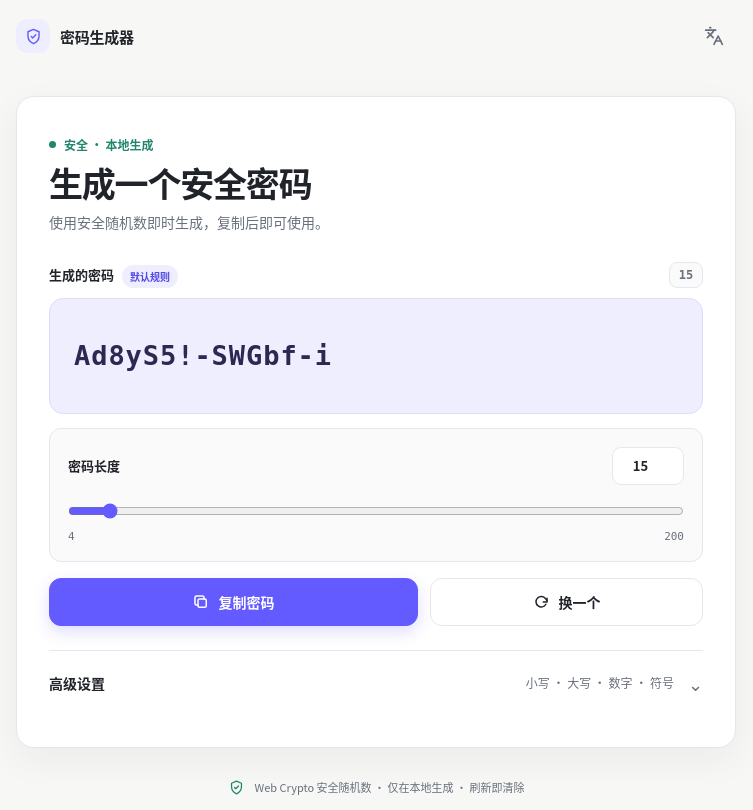
Test case: App › validates character selections and restores defaults immediately
This screenshot has width=753, height=810.
Click the button "高级设置 小写 · 大写 · 数字 · 符号 ⌄" at [77, 683], box [49,651,703,715]
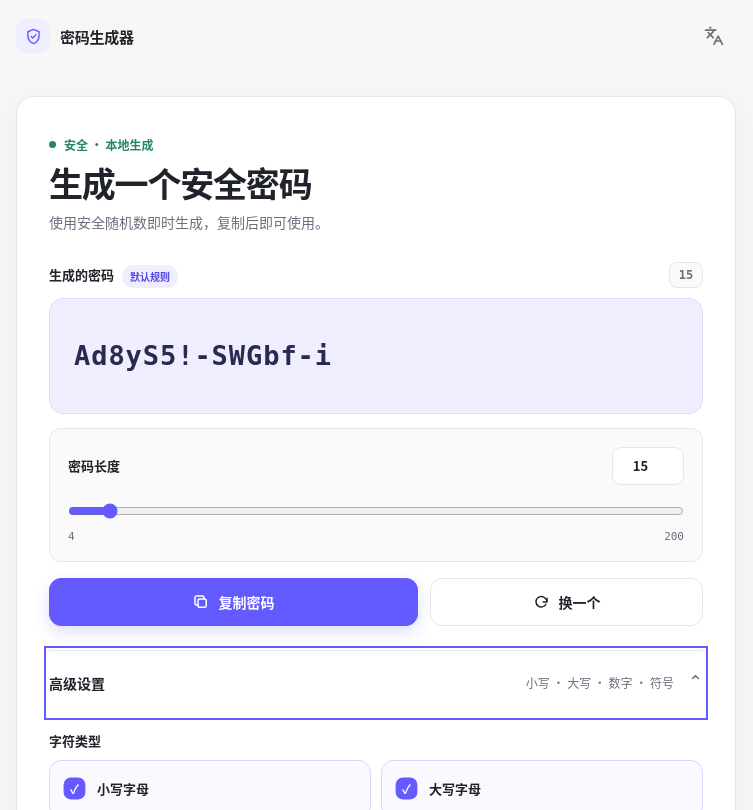
Click the text "小写字母" at [123, 789], box [97,779,149,798]
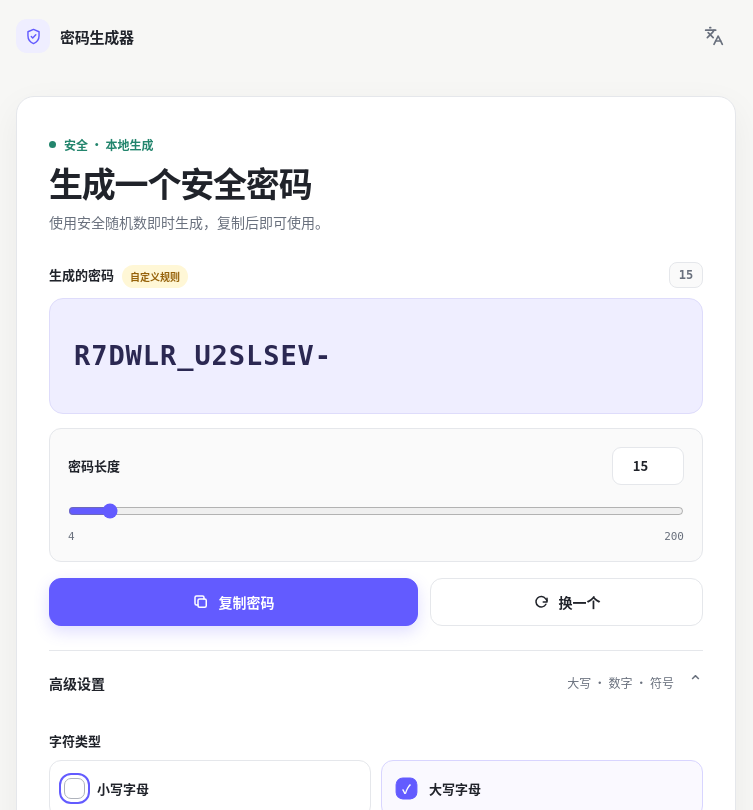
Click the text "大写字母" at [455, 789], box [429,779,481,798]
(page scrolled)
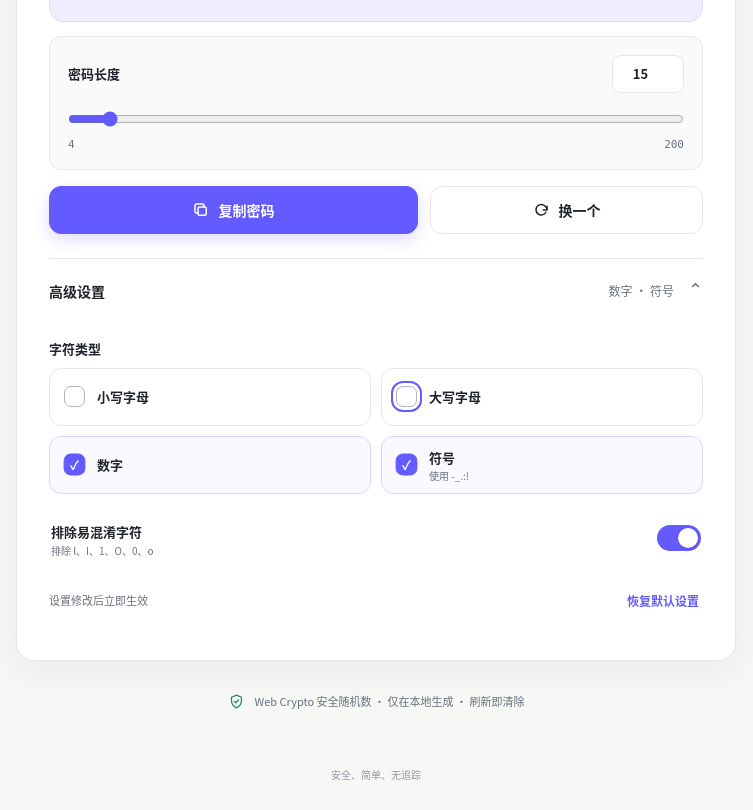
Click the text "数字" at [110, 465], box [97,455,123,474]
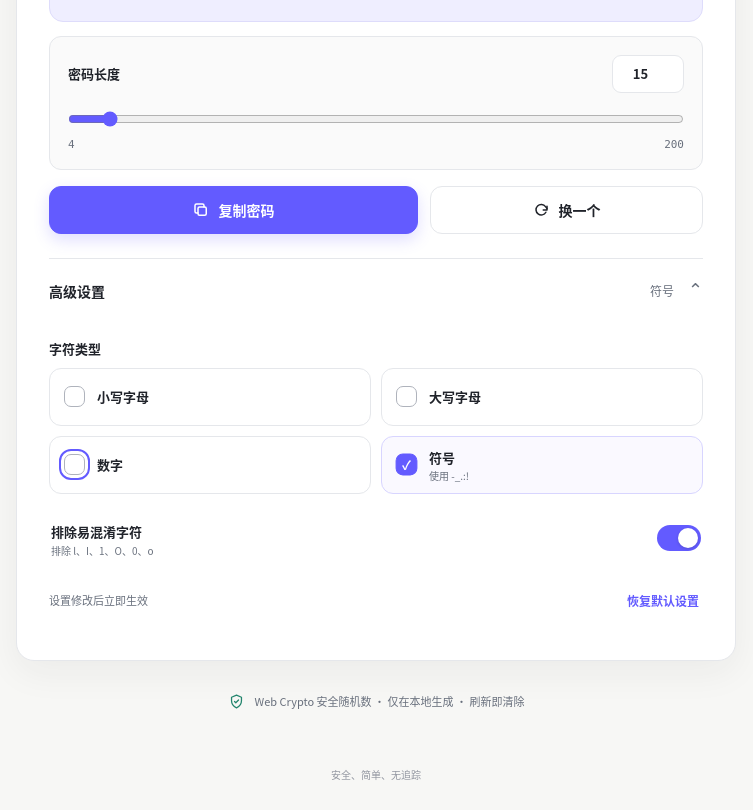
Click the text "符号" in the row of "数字" at [442, 457], box [429,448,455,467]
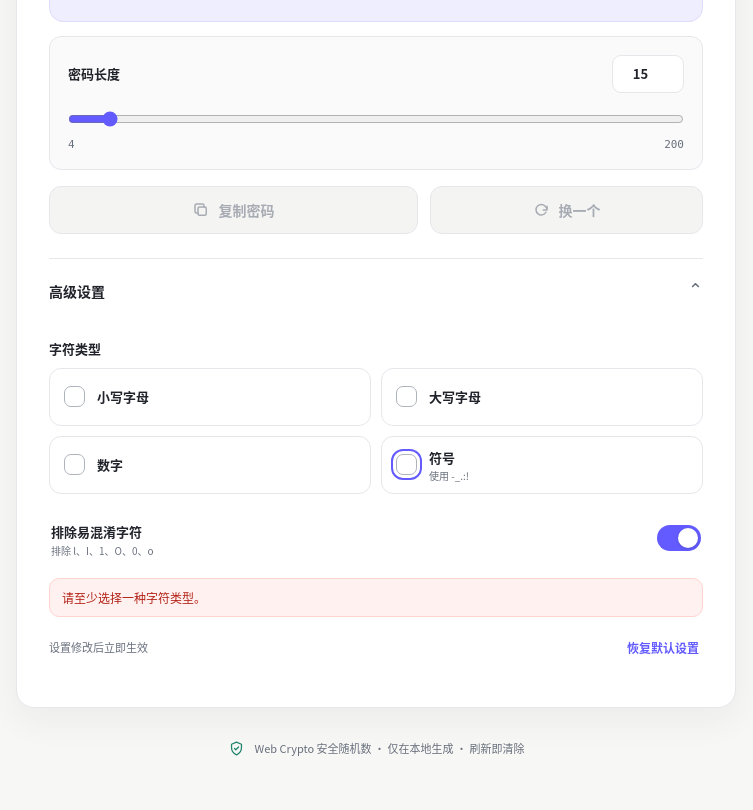
Expected: the message shows "请至少选择一种字符类型", [62,589,206,606]
Expected: the button "复制密码" is disabled, [49,186,418,234]
Expected: the button "换一个" is disabled, [430,186,703,234]
Click the button "恢复默认设置" at [663, 647], box [623,625,703,669]
(page scrolled)
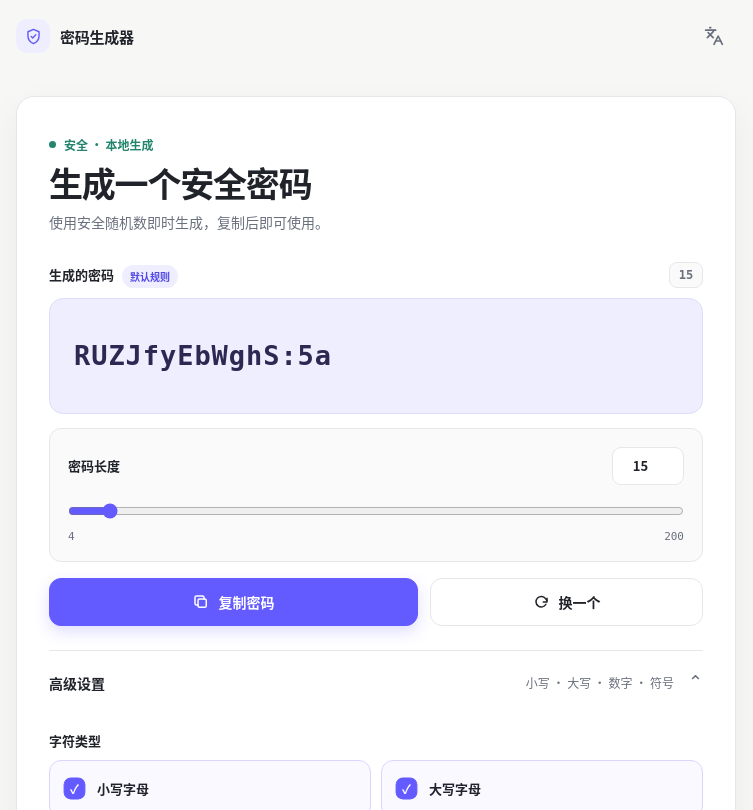
Expected: the message "请至少选择一种字符类型。" is gone
Expected: the text "默认规则" is shown, [122,265,178,288]
